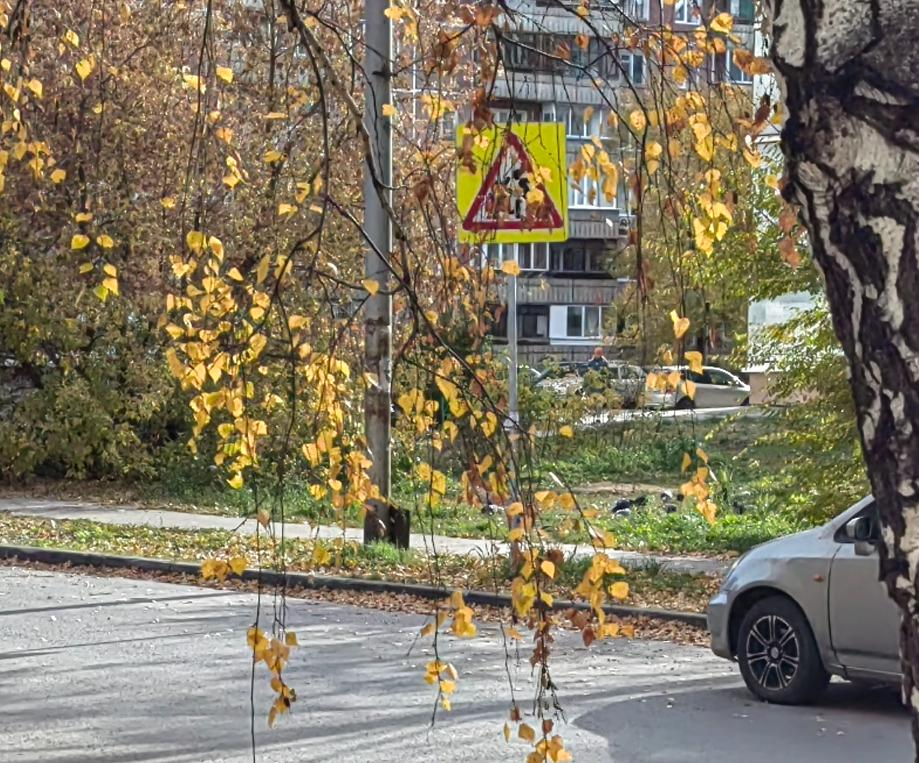obstructed_road_sign: (457, 120, 569, 244)
